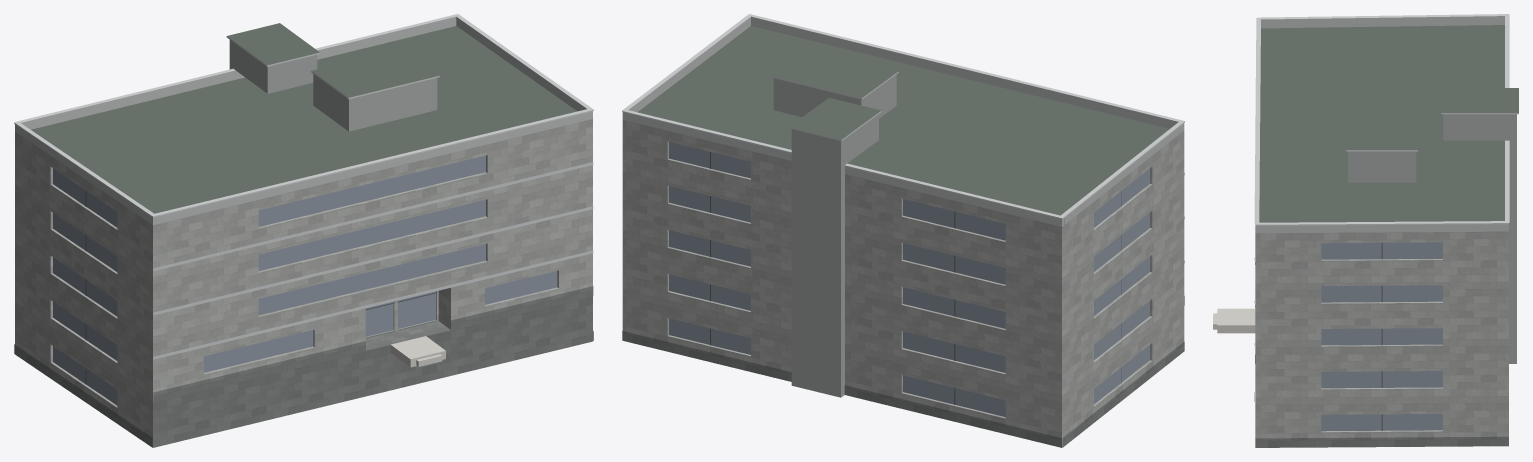
The picture shows the model from 3 angles, left to right: view 1: azimuth 30°, elevation 25°; view 2: azimuth 150°, elevation 25°; view 3: azimuth 270°, elevation 25°; orthographic projection. The views are drawn at different scales.
Parts seen in each view (by area): view 1: b43_2__wall, b43_2__roof, b43_2__base, b43_2__glass, b43_2__trim, b43_2__parapet, b43_2__wall2, b43_2__entranceStair; view 2: b43_2__wall, b43_2__roof, b43_2__glass, b43_2__wall2, b43_2__parapet, b43_2__base, b43_2__trim; view 3: b43_2__roof, b43_2__wall, b43_2__glass, b43_2__wall2, b43_2__parapet, b43_2__trim, b43_2__base, b43_2__entranceStair.
Boxes of the visible parts, x1,y1,x2,y2 form: b43_2__wall: [15, 119, 592, 447]; b43_2__roof: [31, 23, 592, 447]; b43_2__base: [14, 286, 593, 447]; b43_2__glass: [53, 155, 557, 405]; b43_2__trim: [14, 14, 593, 359]; b43_2__parapet: [15, 16, 592, 225]; b43_2__wall2: [229, 40, 437, 131]; b43_2__entranceStair: [390, 336, 445, 367]; b43_2__wall: [622, 120, 1184, 447]; b43_2__roof: [638, 26, 1169, 447]; b43_2__glass: [669, 142, 1149, 416]; b43_2__wall2: [773, 74, 896, 397]; b43_2__parapet: [622, 16, 1184, 226]; b43_2__base: [622, 296, 1184, 447]; b43_2__trim: [622, 14, 1184, 262]; b43_2__roof: [1259, 25, 1518, 447]; b43_2__wall: [1255, 231, 1508, 438]; b43_2__glass: [1321, 242, 1442, 431]; b43_2__wall2: [1348, 114, 1516, 363]; b43_2__parapet: [1255, 16, 1508, 233]; b43_2__trim: [1254, 14, 1518, 345]; b43_2__base: [1254, 355, 1508, 447]; b43_2__entranceStair: [1213, 308, 1255, 333].
Size of the model in its own units: 37.96 by 21.17 by 23.27.
10 materials, 2 textured.
